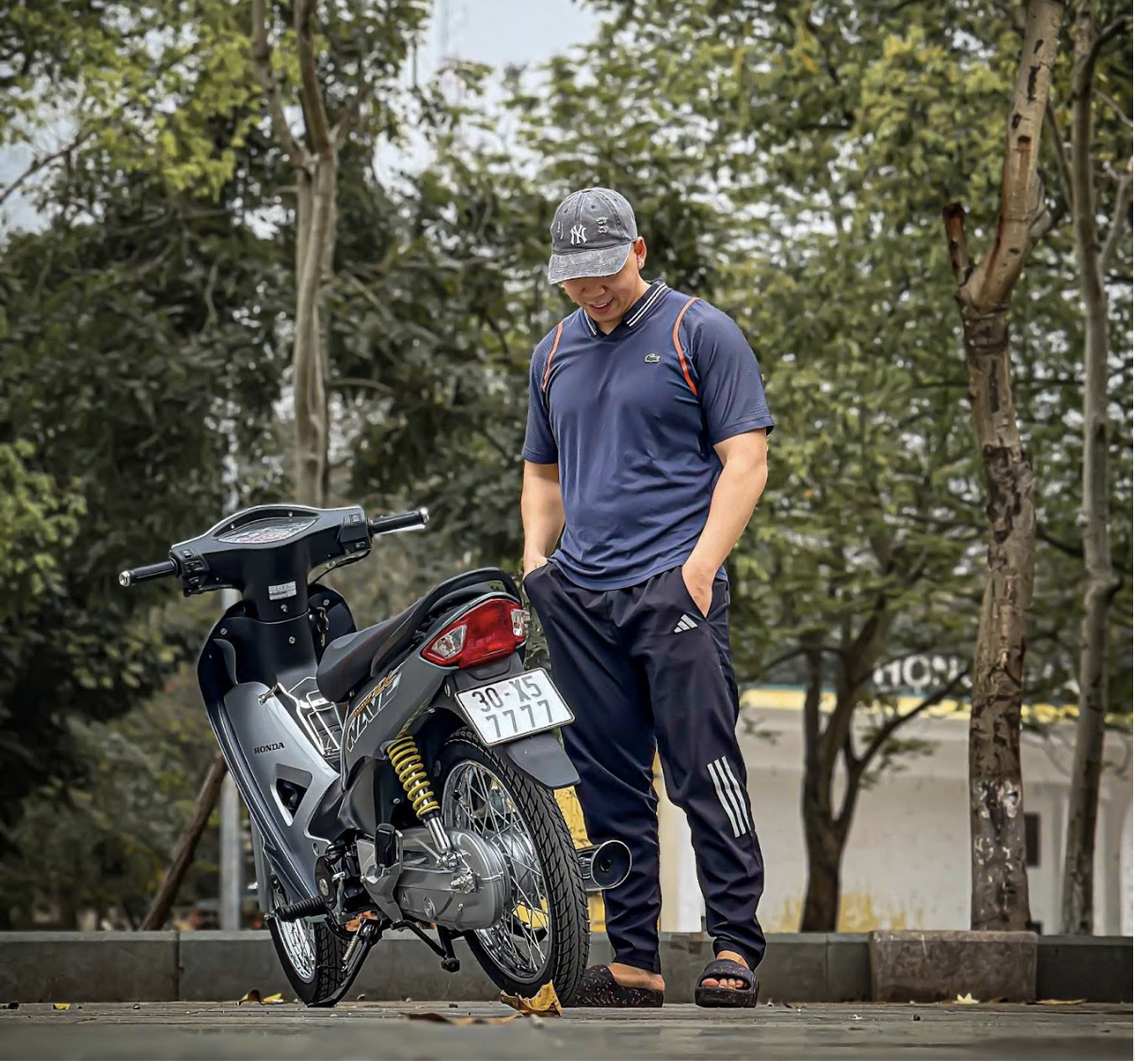bien_so: (451, 658, 578, 754)
